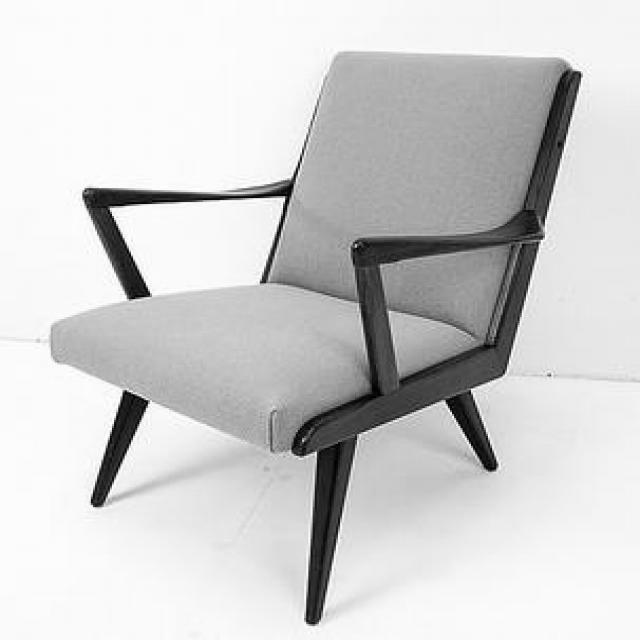chair: (49, 48, 583, 624)
